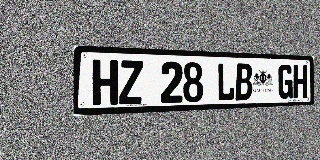2: (161, 61, 183, 103)
8: (183, 62, 203, 102)
B: (235, 63, 252, 101)
G: (278, 64, 293, 99)
H: (92, 59, 118, 106), (293, 65, 307, 98)
L: (217, 63, 235, 101)
Z: (119, 60, 143, 105)
